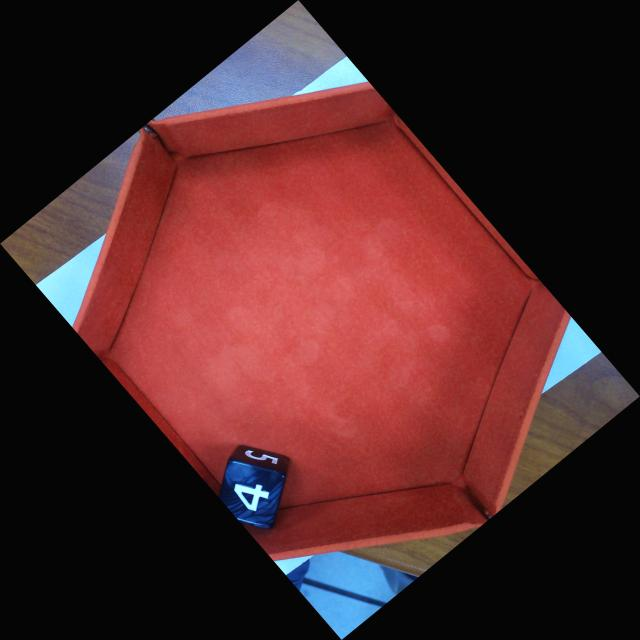dice: (222, 458, 284, 528)
